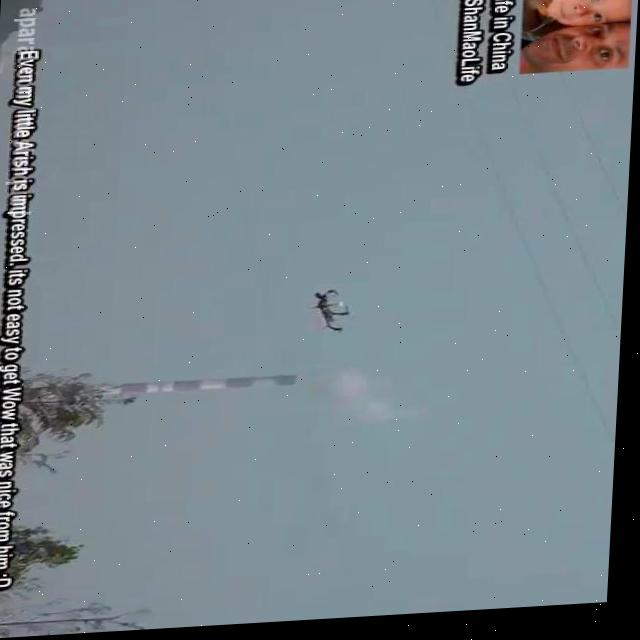drone: (310, 290, 362, 342)
